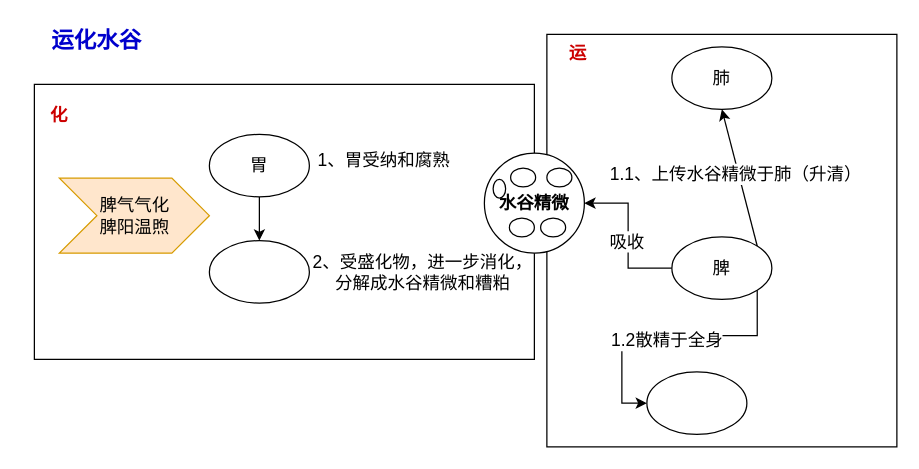
Some shapes in this 919 by 469 pixel diagram are drawn without their labels. The shapes that lost their labels are listed below. From the top down, each one's centre as x and y in pixels, then its label:
At (258,271): "小肠".
At (696,402): "全身".
